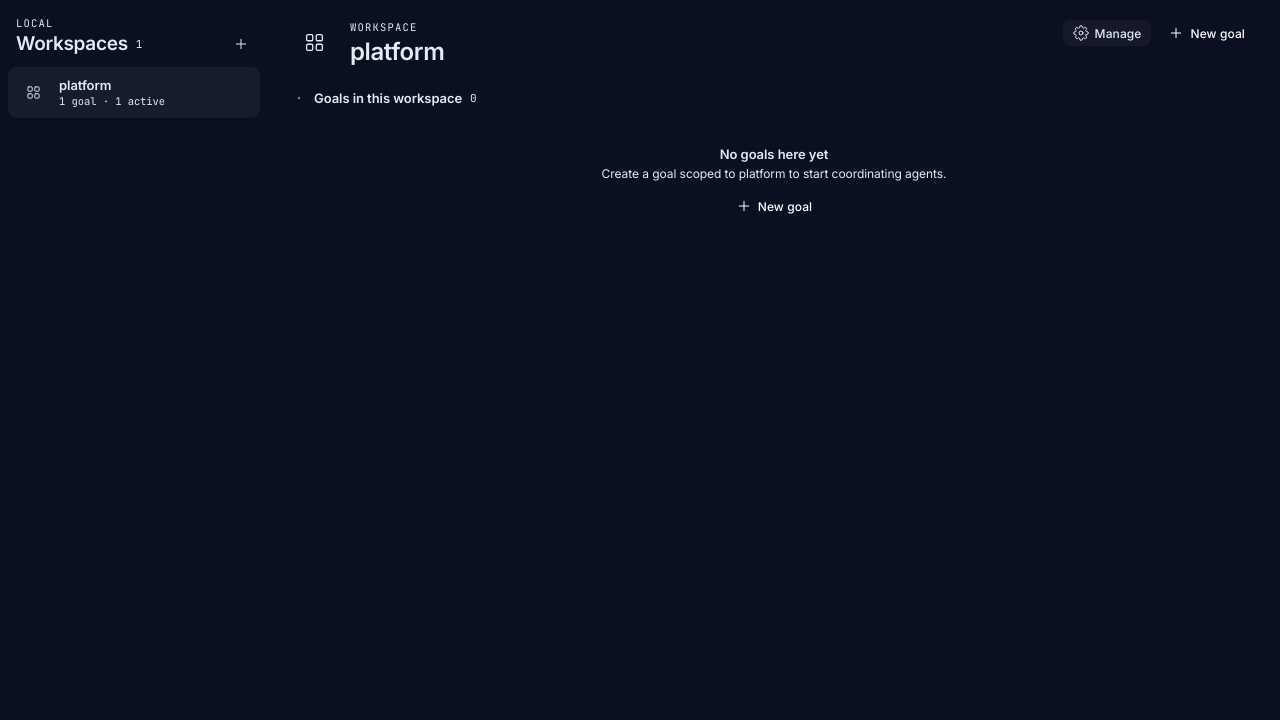
WorkspacesPage › duplicate path error surfaces inline error in create modal
expect the heading "Workspaces" is shown: met, box [16, 32, 128, 55]
Click the button titled "New workspace". click: (241, 44)
box: [230, 32, 252, 54]
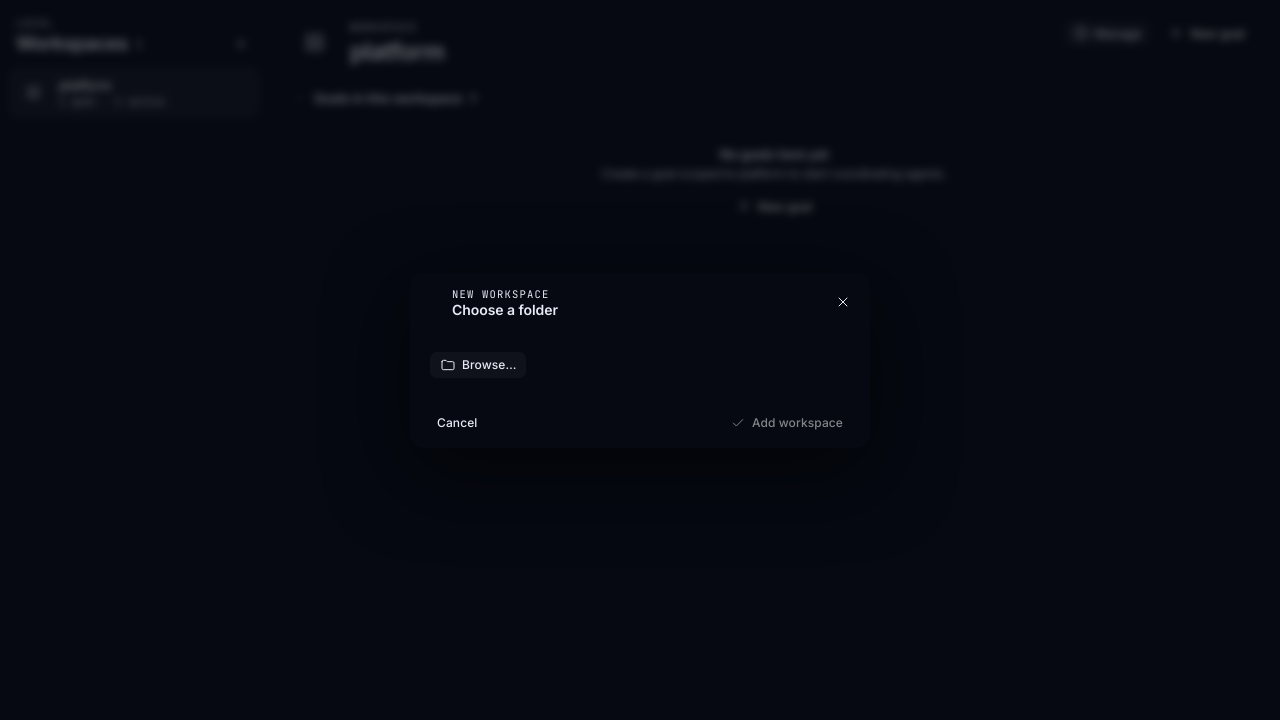
Click the button "Browse…". click: (478, 364)
box: [430, 352, 526, 378]
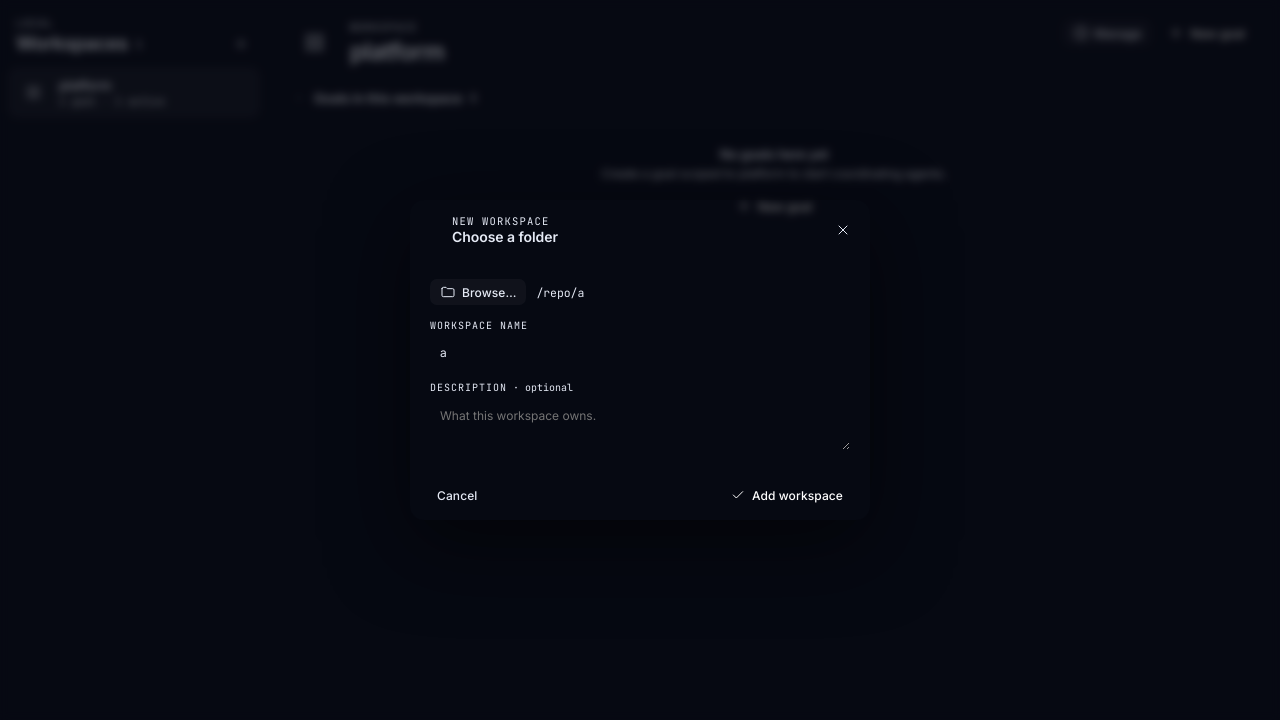
expect the text "/repo/a" is shown: met, box [536, 284, 584, 300]
Click the button "Add workspace". click: (786, 495)
box: [719, 482, 854, 508]
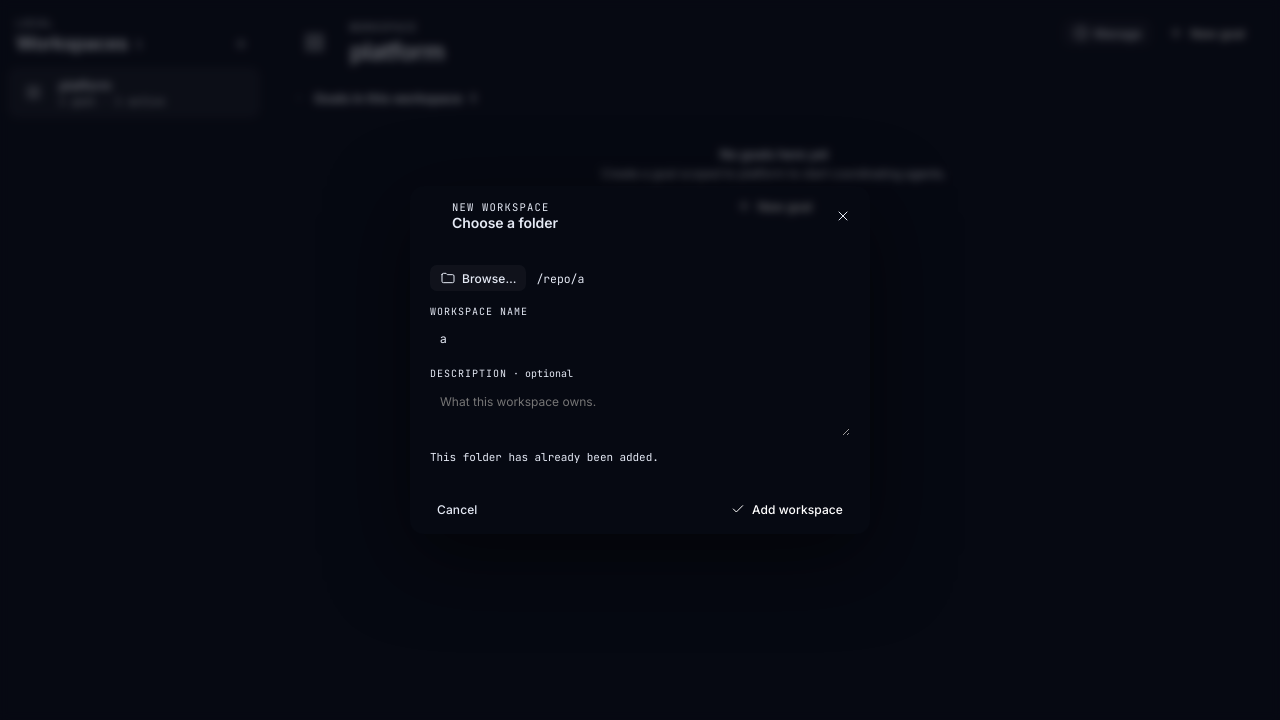
expect the text "This folder has already been added." is shown: met, box [430, 450, 659, 464]
